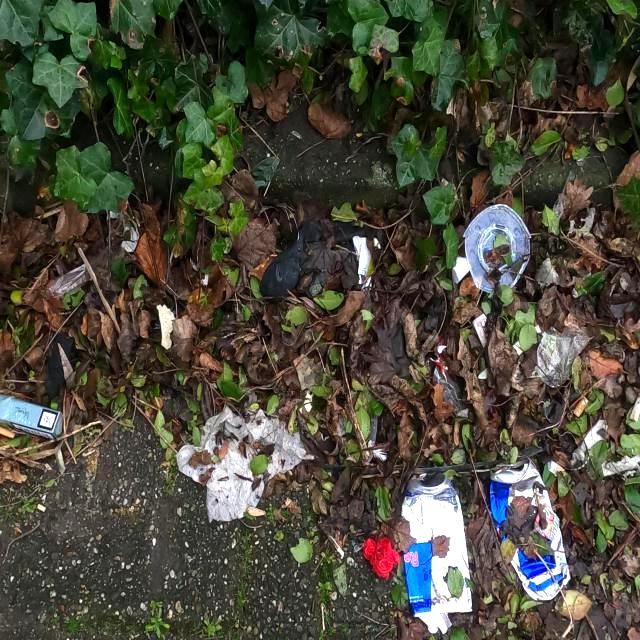Metal: (394, 472, 476, 634), (489, 456, 571, 602)
